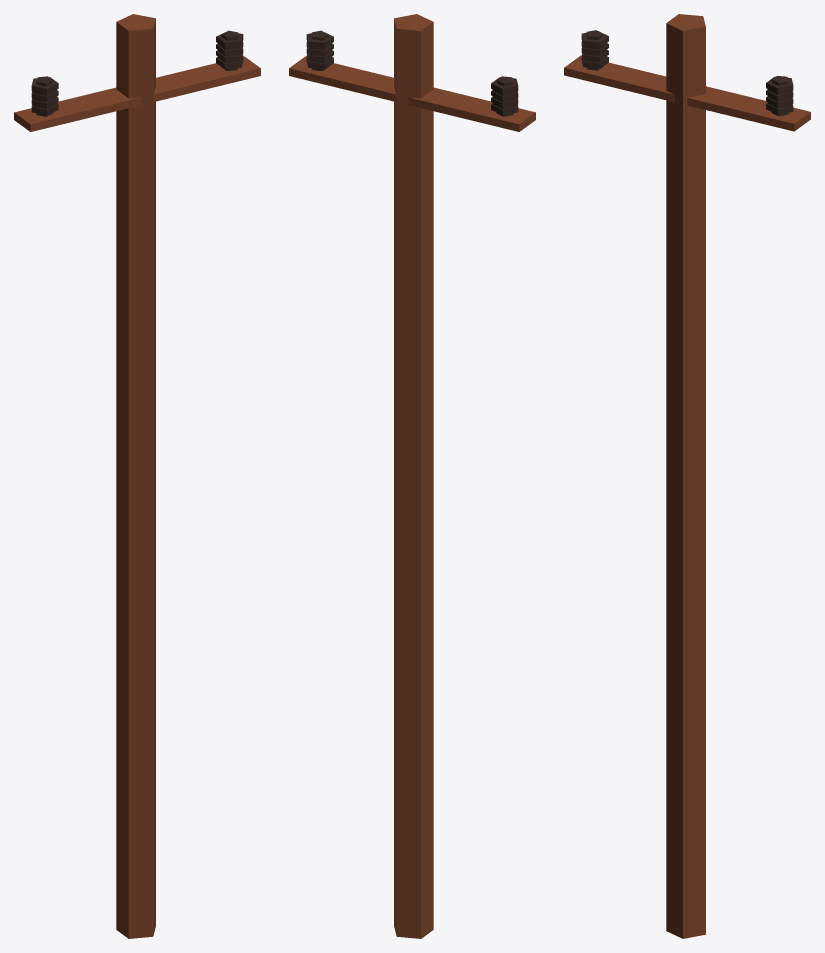
Rendered from village_pack_pole_1.glb.
3 renders of one model, left to right at view 1: azimuth 30°, elevation 25°; view 2: azimuth 150°, elevation 25°; view 3: azimuth 330°, elevation 25°, orthographic.
Parts seen in each view (by area): view 1: pole 1_iron 1_0; view 2: pole 1_iron 1_0; view 3: pole 1_iron 1_0.
Part boxes in pixels (x1,y1,x2,y2): pole 1_iron 1_0: (14, 14, 260, 938); pole 1_iron 1_0: (289, 14, 535, 938); pole 1_iron 1_0: (564, 14, 810, 938).
Bounding box in the file's own units: 2.2 × 8.3 × 0.3355.
